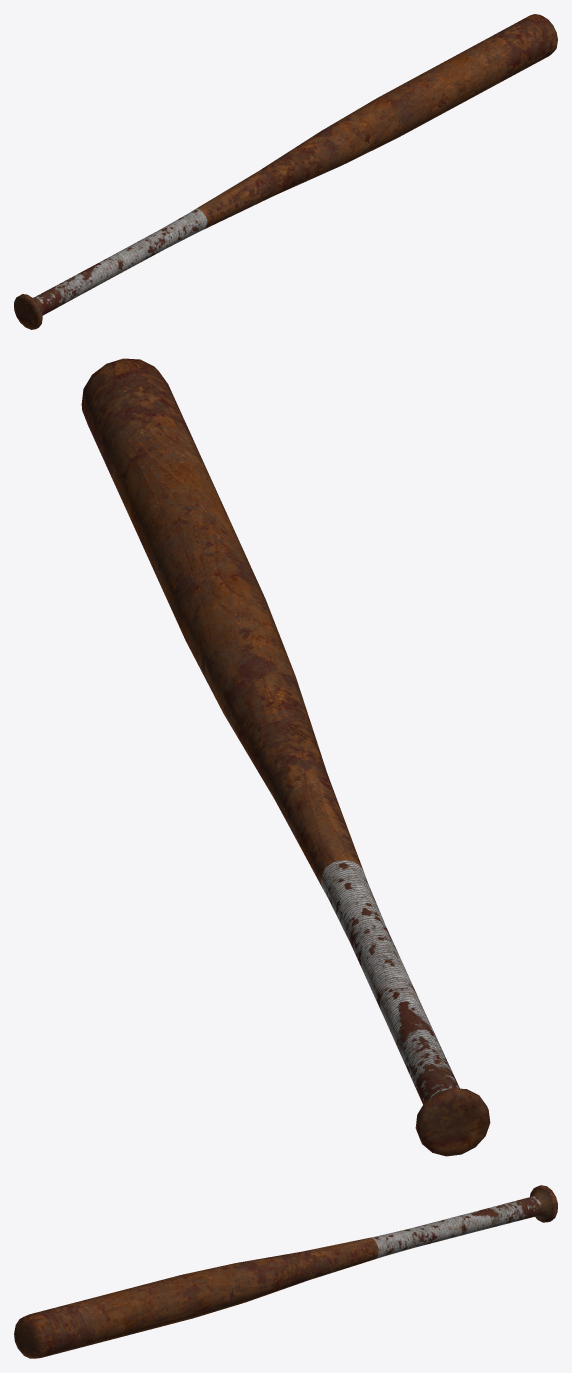
The model's file is Anim_idle_bate_objetos.0037.obj.
3 views of the same model, one above another, from view 1: azimuth 90°, elevation 25°; view 2: azimuth 150°, elevation 25°; view 3: azimuth 270°, elevation 25° (orthographic). The views are drawn at different scales.
Visible parts, largest first — view 1: Bate1; view 2: Bate1; view 3: Bate1.
Part boxes in pixels (x1,y1,x2,y2): Bate1: [14, 14, 557, 329]; Bate1: [81, 358, 490, 1156]; Bate1: [14, 1185, 557, 1358].
Size of the model in its own units: 3.83 by 0.889 by 4.02.
